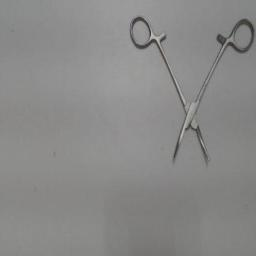Crile Artery Forceps: (121, 6, 255, 168)
